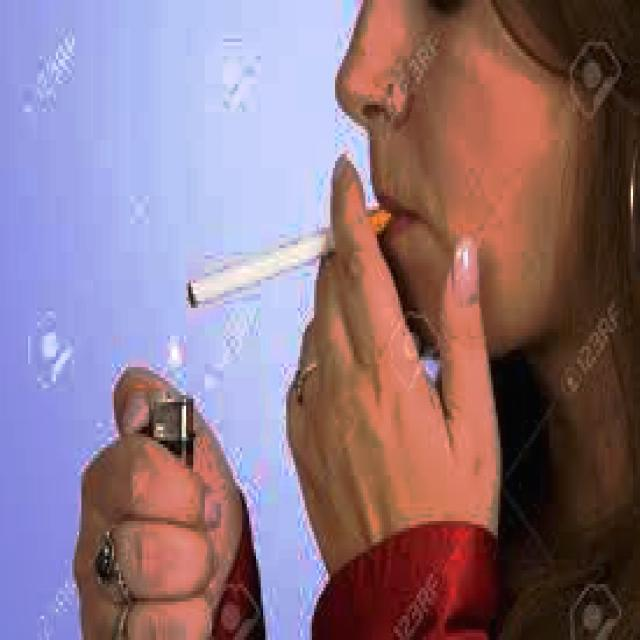api: (152, 312, 199, 393)
